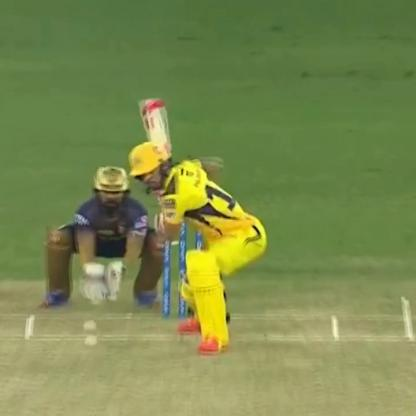bat: (125, 91, 186, 175), (79, 318, 99, 334), (76, 336, 102, 348)
pitch: (10, 304, 416, 416)
